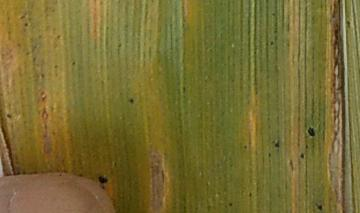tarspot: (312, 201, 326, 212), (306, 126, 317, 139), (96, 175, 111, 184), (273, 142, 282, 149), (298, 153, 307, 160), (6, 113, 14, 120), (247, 191, 253, 197), (228, 202, 234, 208), (270, 40, 275, 46), (129, 98, 134, 103), (243, 145, 249, 149), (268, 151, 270, 157)
